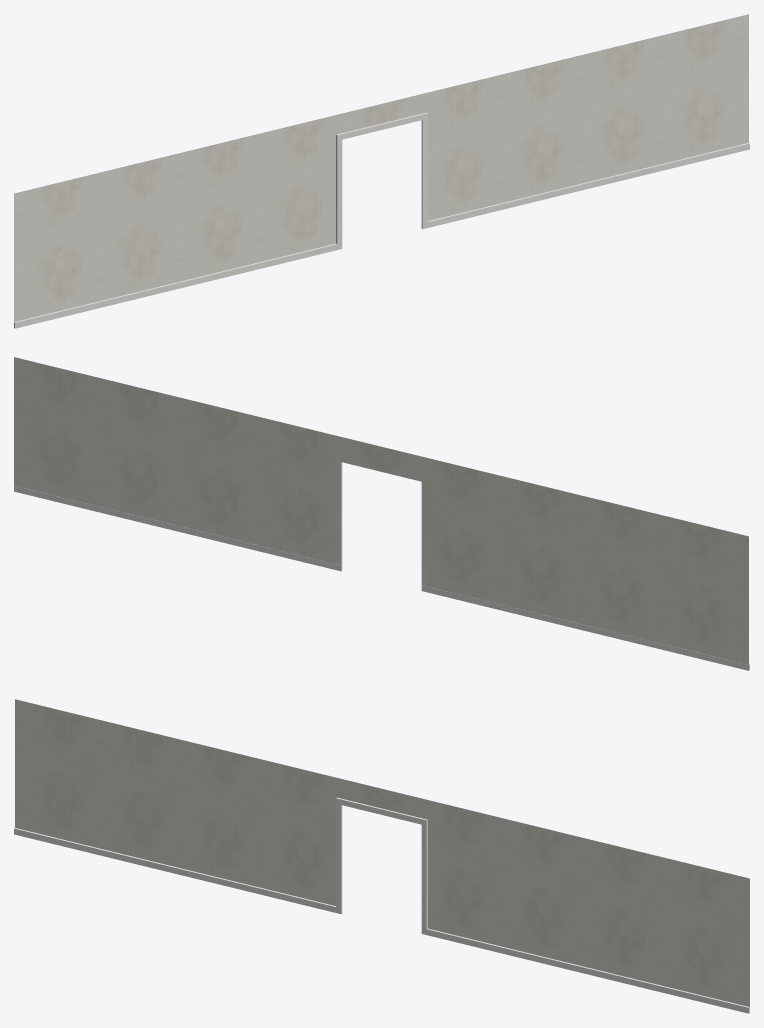
3 renders of one model, top to bottom at view 1: azimuth 30°, elevation 25°; view 2: azimuth 150°, elevation 25°; view 3: azimuth 330°, elevation 25°, orthographic.
Visible parts, largest first — view 1: jx_wm_18_e9074a69; view 2: jx_wm_18_e9074a69; view 3: jx_wm_18_e9074a69.
Boxes of the visible parts, x1,y1,x2,y2 form: jx_wm_18_e9074a69: (14, 14, 749, 328); jx_wm_18_e9074a69: (14, 357, 749, 670); jx_wm_18_e9074a69: (14, 699, 749, 1013).
Size of the model in its own units: 18.3 by 3.2 by 0.05.
Materials: 2 (2 with a texture image).
